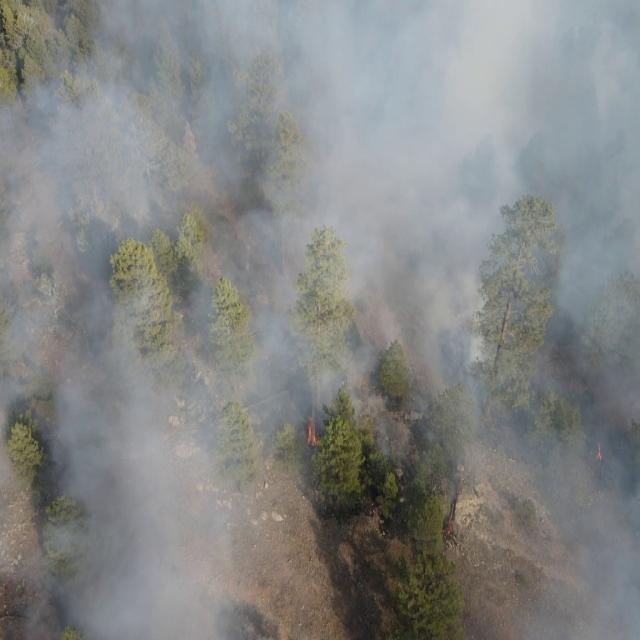fire: (445, 485, 464, 540), (302, 415, 320, 447), (596, 441, 604, 463)
smoke: (0, 0, 640, 640)
